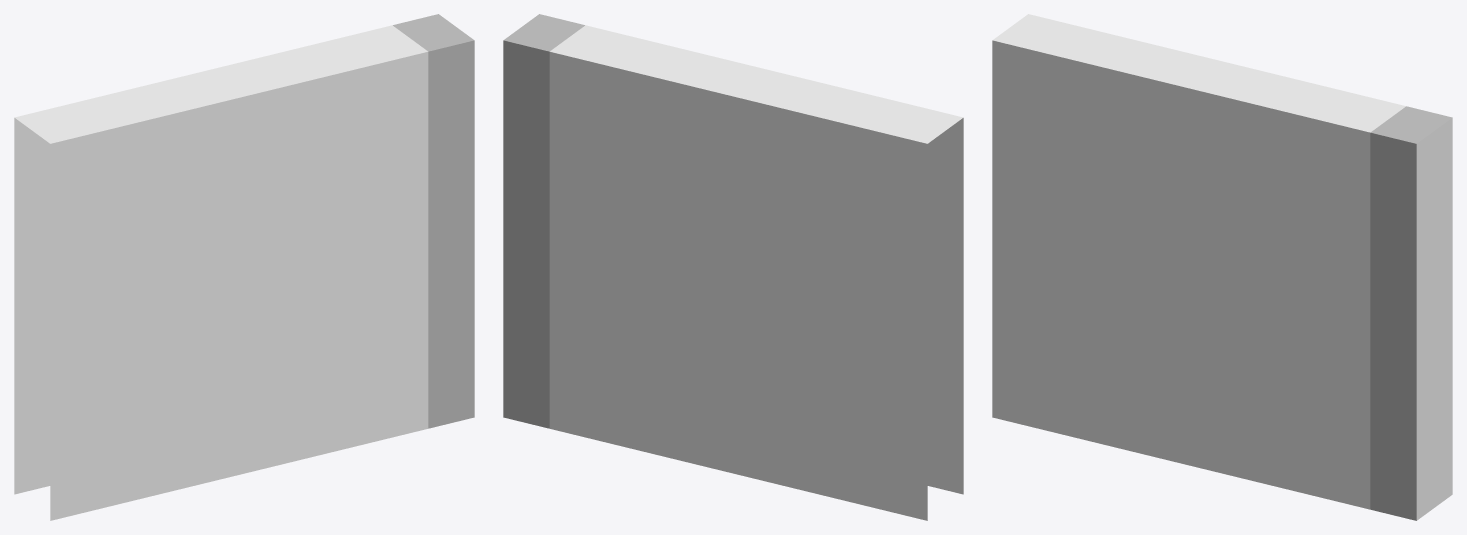
The model's file is SM_Shower_02.FBX.
The picture shows the model from 3 angles, left to right: view 1: azimuth 30°, elevation 25°; view 2: azimuth 150°, elevation 25°; view 3: azimuth 330°, elevation 25°; orthographic projection.
Parts seen in each view (by area): view 1: SM_Shower_02; view 2: SM_Shower_02; view 3: SM_Shower_02.
Boxes of the visible parts, <box> form: SM_Shower_02: <box>14,14,474,520</box>; SM_Shower_02: <box>503,14,963,520</box>; SM_Shower_02: <box>992,14,1452,520</box>.
Size of the model in its own units: 213 by 31.31 by 181.
